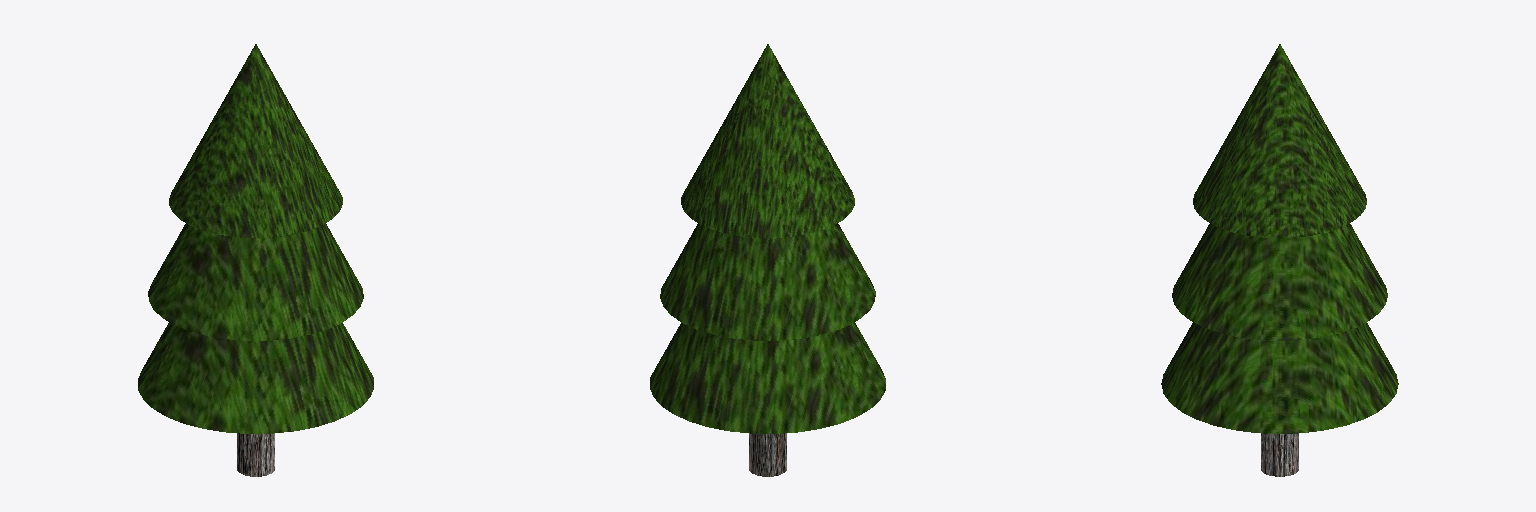
The picture shows the model from 3 angles: view 1: azimuth 30°, elevation 25°; view 2: azimuth 150°, elevation 25°; view 3: azimuth 270°, elevation 25°; orthographic projection.
Parts seen in each view (by area): view 1: Cylinder; view 2: Cylinder; view 3: Cylinder.
Boxes of the visible parts, x1,y1,x2,y2 form: Cylinder: [138, 44, 373, 476]; Cylinder: [650, 44, 885, 476]; Cylinder: [1161, 44, 1398, 476].
Bounding box in the file's own units: 2.72 × 5.38 × 2.72.
Materials: 2 (2 with a texture image).